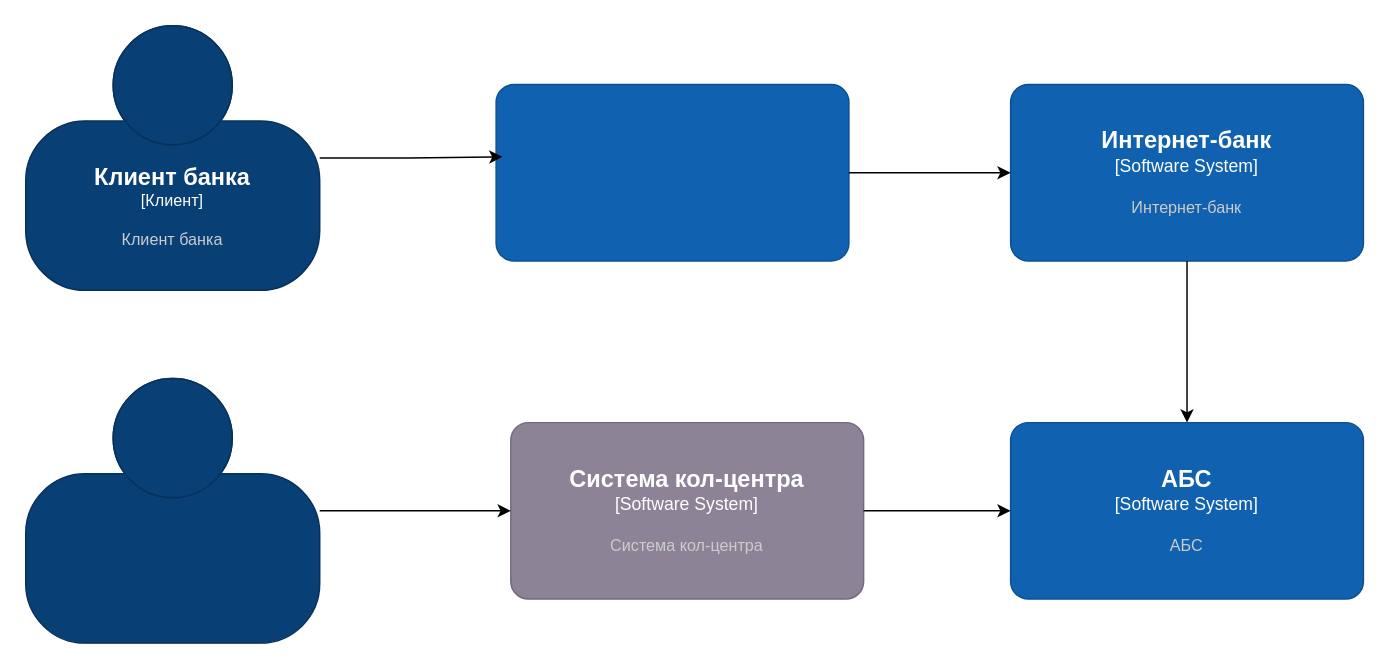
This 1389x669 diagram has some shape labels left out. The shapes that lost their labels are listed below. From the top down, each one's centre as x and y in pixels, then its label:
point 672,172: Сайт [Software System] Сайт банка
point 172,510: Менеджер [Менеджер] Менеджер
